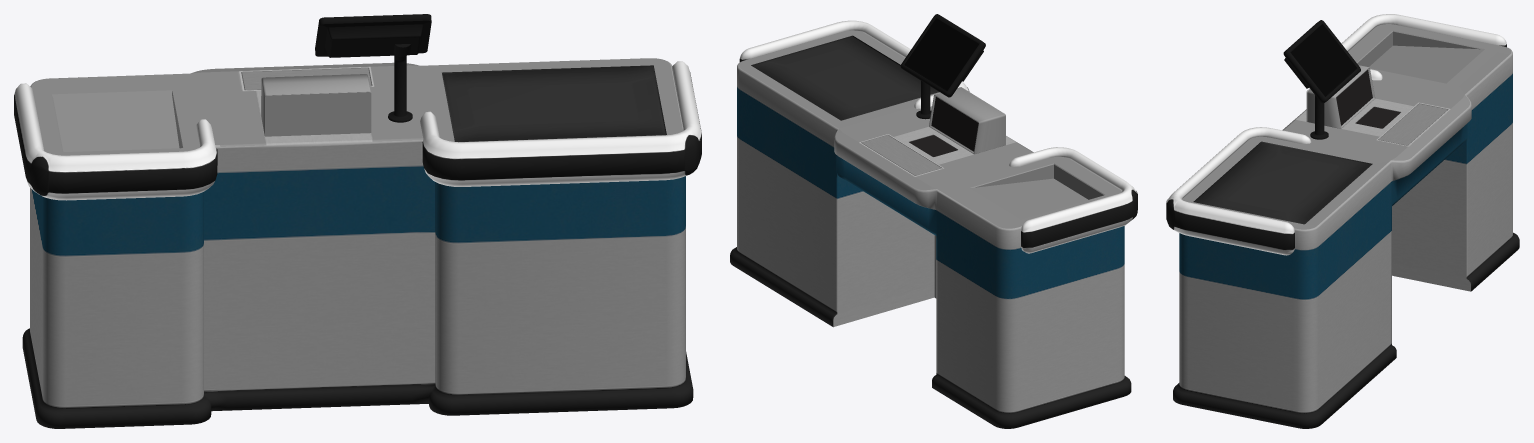
Rendered from cash_register.glb.
3 views of the same model, side by side, from view 1: azimuth 30°, elevation 25°; view 2: azimuth 150°, elevation 25°; view 3: azimuth 270°, elevation 25° (orthographic). The views are drawn at different scales.
Parts seen in each view (by area): view 1: body, z_porte_caisse_no_norm, pied_ecran; view 2: body, z_porte_caisse_no_norm, pied_ecran; view 3: body, z_porte_caisse_no_norm, pied_ecran.
Boxes of the visible parts, x1,y1,x2,y2 form: body: (22,58,693,428); z_porte_caisse_no_norm: (14,61,701,200); pied_ecran: (315,14,431,122); body: (730,30,1131,428); z_porte_caisse_no_norm: (739,20,1137,253); pied_ecran: (900,14,985,119); body: (1173,24,1519,428); z_porte_caisse_no_norm: (1166,14,1506,255); pied_ecran: (1283,20,1360,139).
Bounding box in the file's own units: 2 × 1.23 × 1.39.
3 materials, 2 textured.
